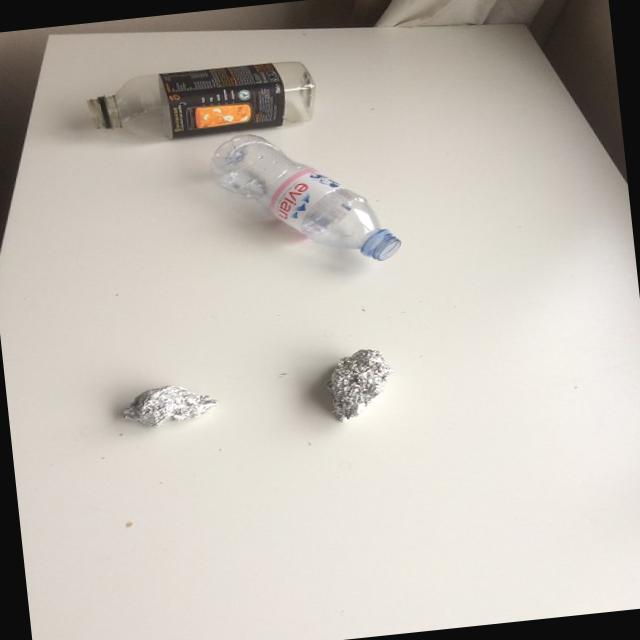Recycle: (199, 118, 405, 276), (84, 54, 323, 144)
Trash: (318, 344, 397, 425), (116, 379, 222, 428)
